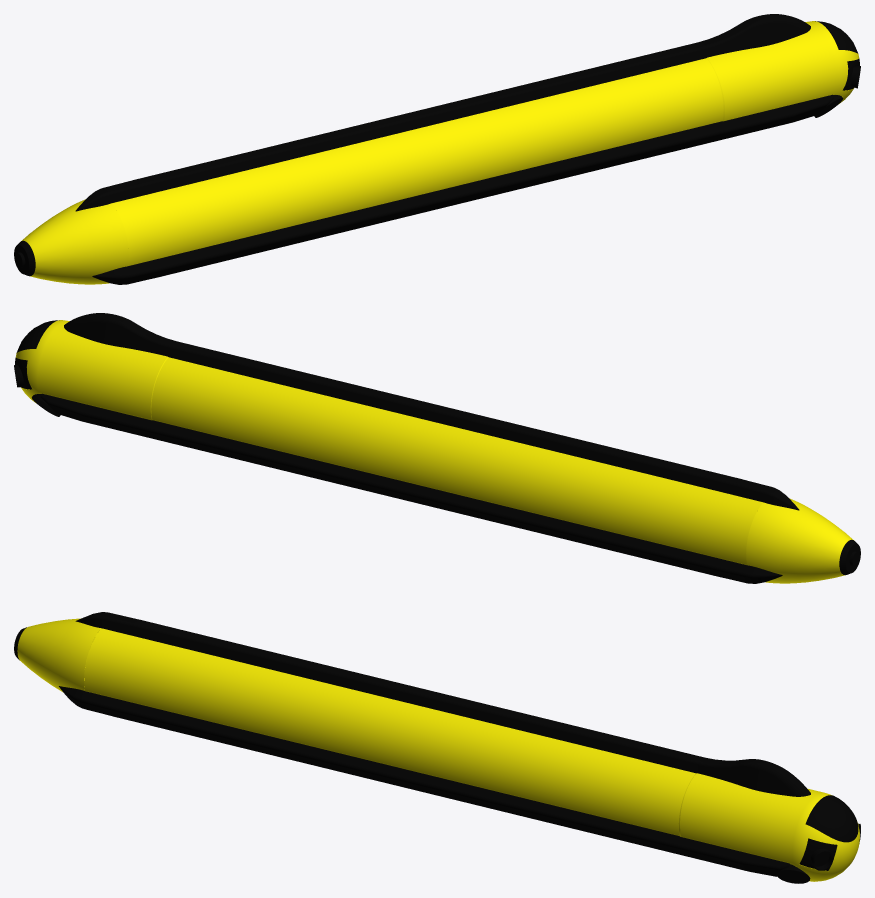
Rendered from SAM_HULL.dae.
3 views of the same model, one above another, from view 1: azimuth 30°, elevation 25°; view 2: azimuth 150°, elevation 25°; view 3: azimuth 330°, elevation 25° (orthographic).
Visible parts, largest first — view 1: Brep (×3); view 2: Brep (×3); view 3: Brep (×4), Fillet37.
Boxes of the visible parts, x1,y1,x2,y2 form: Brep (×3): (20,14,859,284); Brep (×3): (16,313,854,583); Brep (×4): (17,612,859,881); Fillet37: (799,838,837,870).
Bounding box in the file's own units: 1.35 × 0.1403 × 0.1583.
